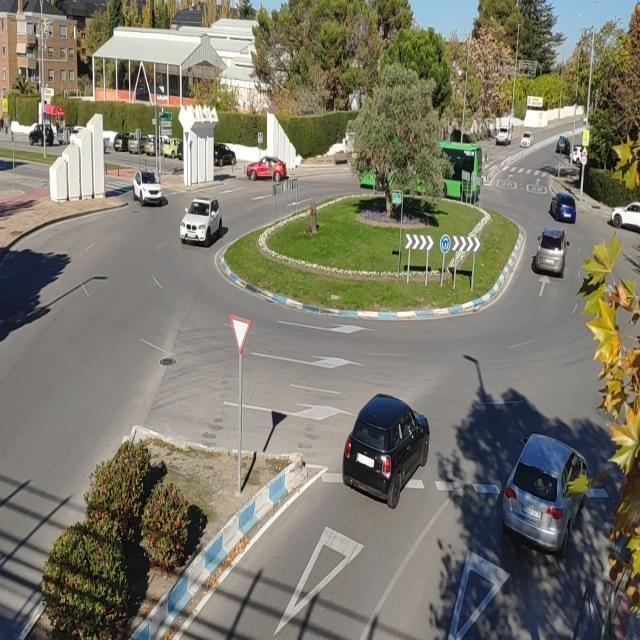Bus: (352, 128, 495, 202)
Car: (479, 416, 604, 554), (329, 384, 435, 522), (180, 185, 229, 256), (522, 222, 567, 294), (243, 140, 296, 191), (130, 156, 167, 219), (548, 172, 581, 226), (607, 185, 640, 237), (552, 121, 575, 162)
